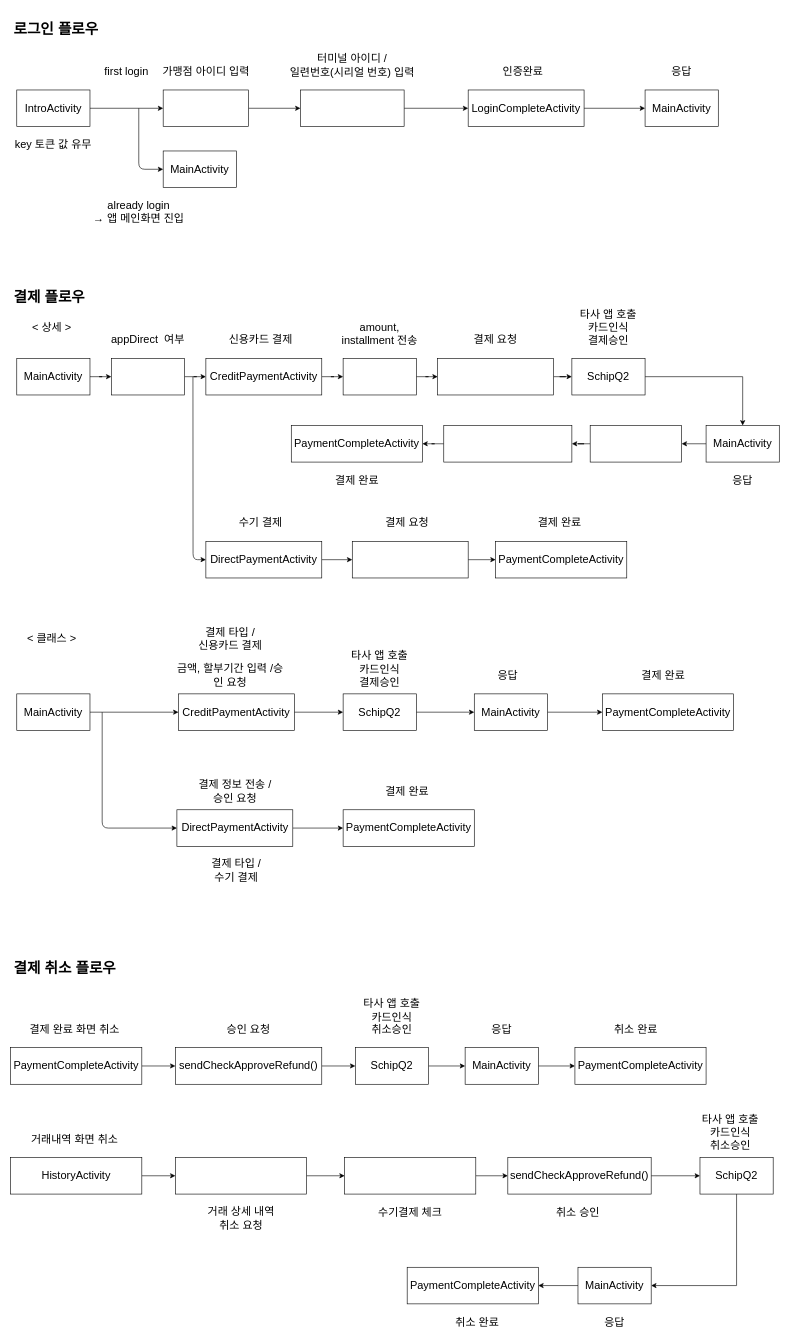
This 796x1344 diagram has some shape labels left out. Here are the shapes that lost their labels. From the top down, the box of each, then its label:
(163, 89, 249, 127): AuthFirstActivity
(300, 89, 404, 127): AuthSecondActivity
(111, 358, 185, 395): onClickMenu / onClickMain
(343, 358, 416, 395): payStart()
(437, 358, 554, 395): sendCheckApprove() getCheckApprove()
(443, 425, 572, 462): sendApproveComplete()
(590, 425, 682, 462): onNewIntent()
(352, 541, 468, 578): sendDirectPayment()
(175, 1157, 307, 1194): HistoryDetailActivity
(344, 1157, 476, 1194): sendTrxCheck()
